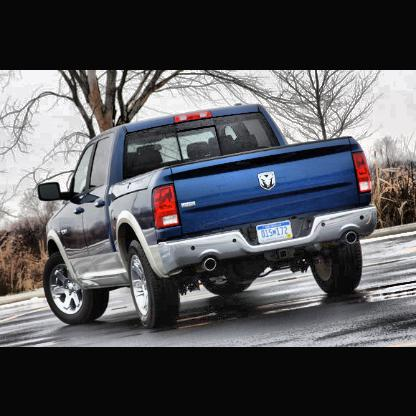Dodge Ram Pickup 3500 Quad Cab 2009: (39, 102, 381, 335)
